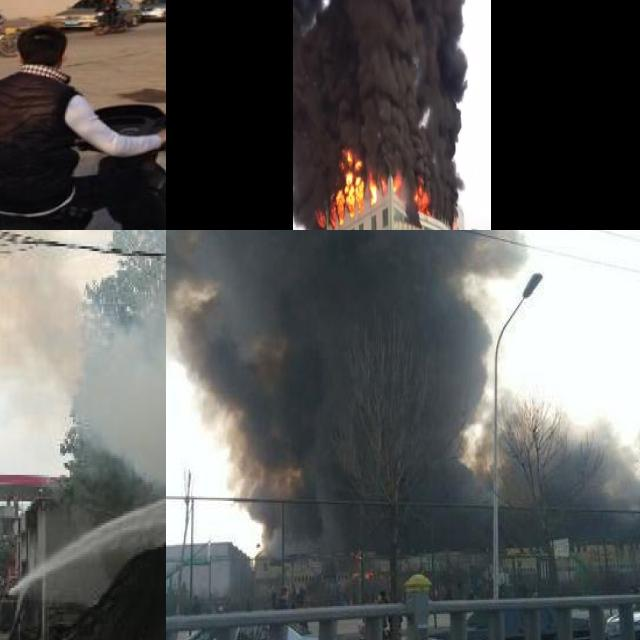fire: (327, 150, 392, 221), (412, 178, 430, 214)
smoke: (166, 230, 640, 545), (0, 230, 166, 541), (291, 0, 472, 224)
